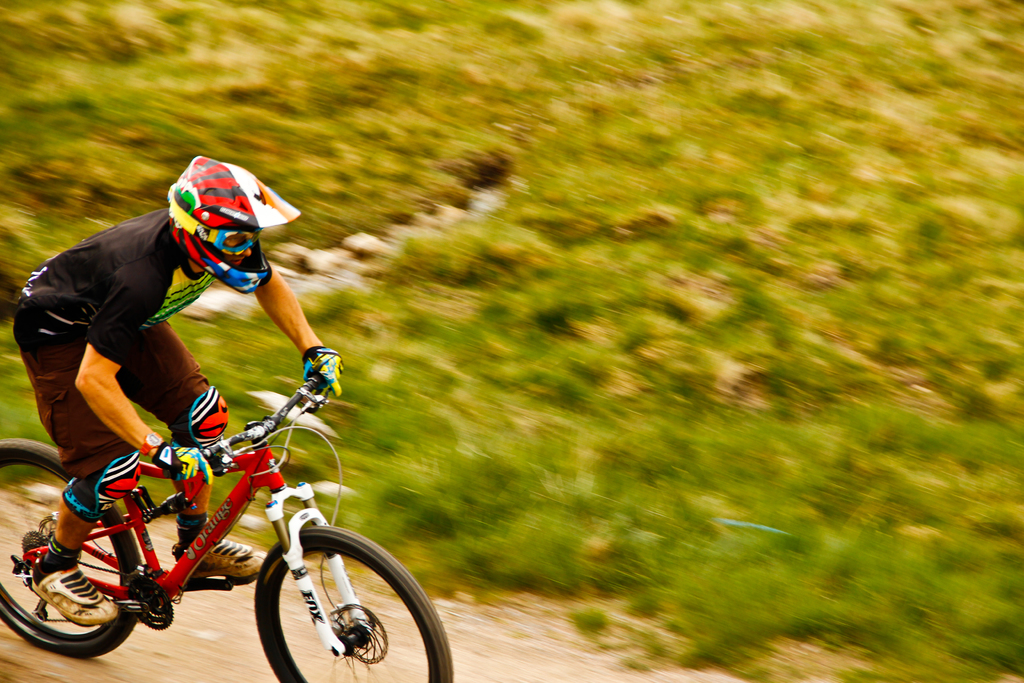Bike_toward: (5, 378, 466, 676)
